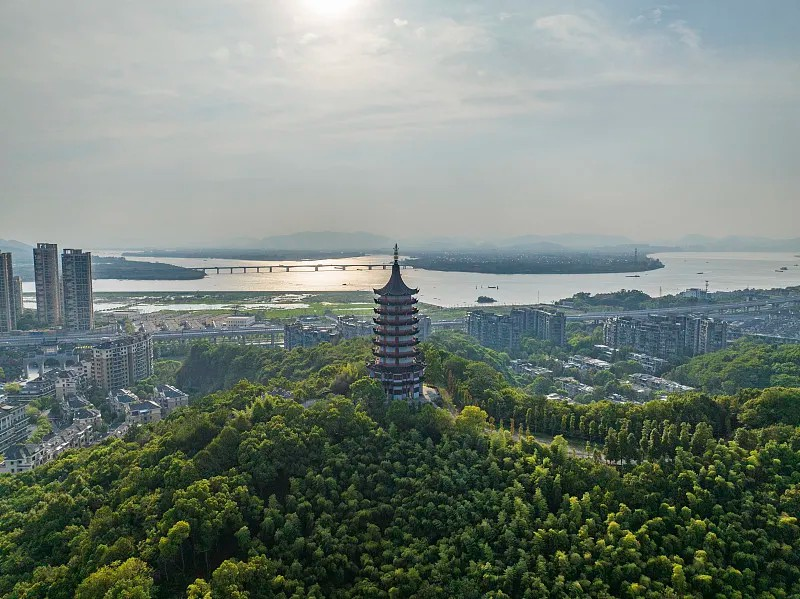Leifeng: (362, 244, 428, 401)
